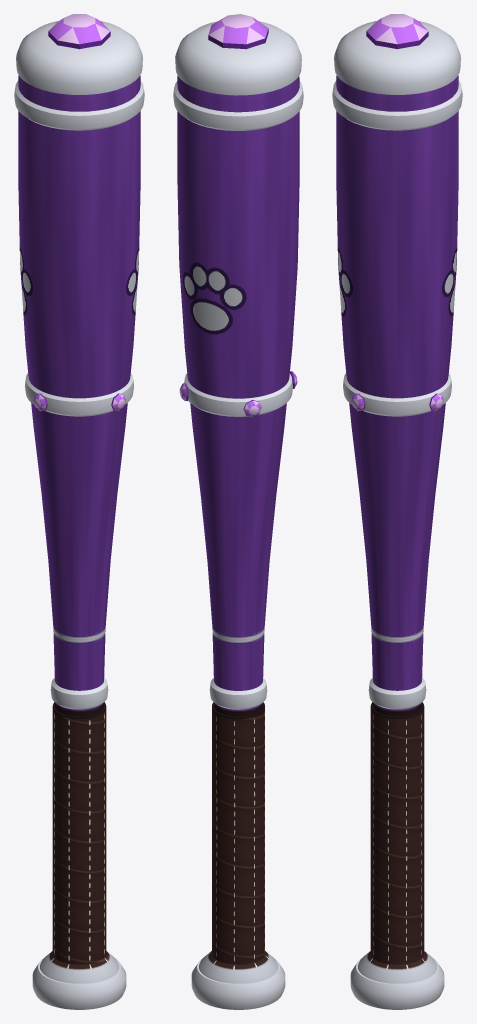
Rendered from Bat_Epic.fbx.
3 views of the same model, side by side, from view 1: azimuth 90°, elevation 25°; view 2: azimuth 150°, elevation 25°; view 3: azimuth 270°, elevation 25° (orthographic).
Parts seen in each view (by area): view 1: Handle; view 2: Handle; view 3: Handle.
Boxes of the visible parts, x1,y1,x2,y2 form: Handle: [14, 14, 144, 1009]; Handle: [173, 14, 303, 1009]; Handle: [332, 14, 462, 1009].
Bounding box in the file's own units: 0.44 × 3.61 × 0.44.
Materials: 1 (1 with a texture image).
